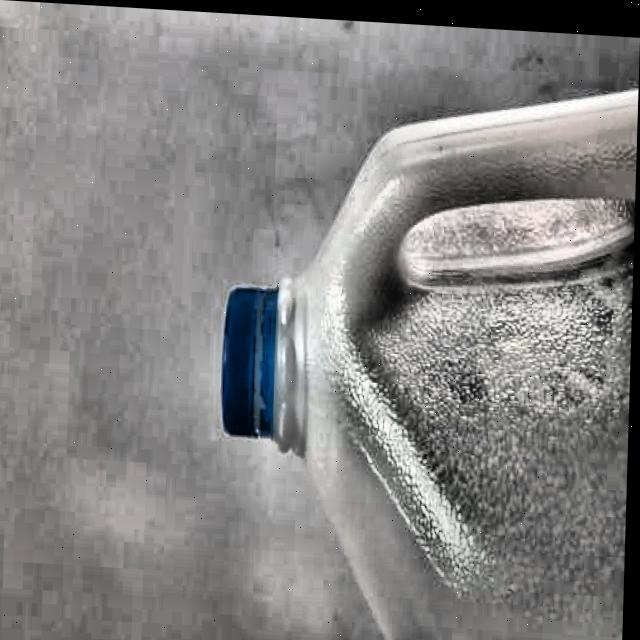plastic: (212, 59, 639, 640)
